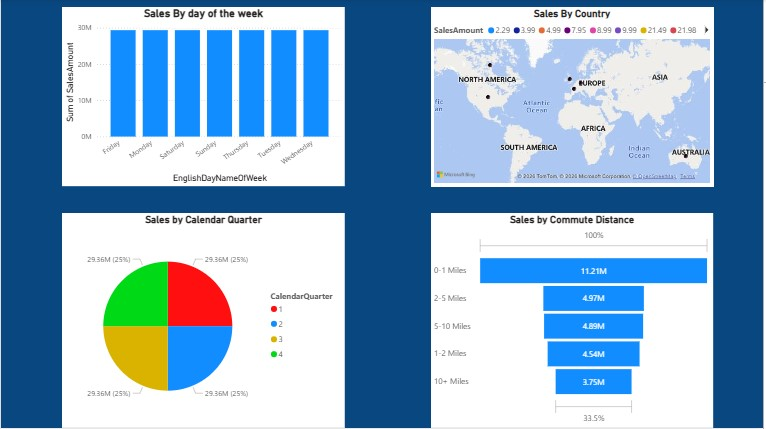

What the dashboard file says about the page in this screenshot:
{"tool":"powerbi","page":{"name":"Page 1","canvas":[1280,720],"ordinal":0},"visuals":[{"type":"columnChart","title":"Sales By day of the week","fields":{"Y":["Sum(FactInternetSales.SalesAmount)"],"Category":["DimDate.EnglishDayNameOfWeek"]},"box":[102.5,13.4,475.4,300.7],"z":0},{"type":"pieChart","title":"Sales by Calendar Quarter","fields":{"Category":["DimDate.CalendarQuarter"],"Y":["Sum(FactInternetSales.SalesAmount)"]},"box":[102.5,359.5,475.4,361.2],"z":1000},{"type":"map","title":"Sales By Country","fields":{"Category":["DimSalesTerritory.SalesTerritoryCountry"],"Series":["FactInternetSales.SalesAmount"]},"box":[722.3,13.4,473.7,300.7],"z":2000},{"type":"funnel","title":"Sales by Commute Distance","fields":{"Y":["Sum(FactInternetSales.SalesAmount)"],"Category":["DimCustomer.CommuteDistance"]},"box":[722.3,359.5,473.7,361.2],"z":3000}]}

Visuals, with their boxes in screenshot pixels (x1, y1, x2, y2), scaled from the page's 1280x720 canvas onto the 766x429 screenshot:
"Sales By day of the week" columnChart: rect(61, 8, 346, 187)
"Sales by Calendar Quarter" pieChart: rect(61, 214, 346, 428)
"Sales By Country" map: rect(432, 8, 716, 187)
"Sales by Commute Distance" funnel: rect(432, 214, 716, 428)
